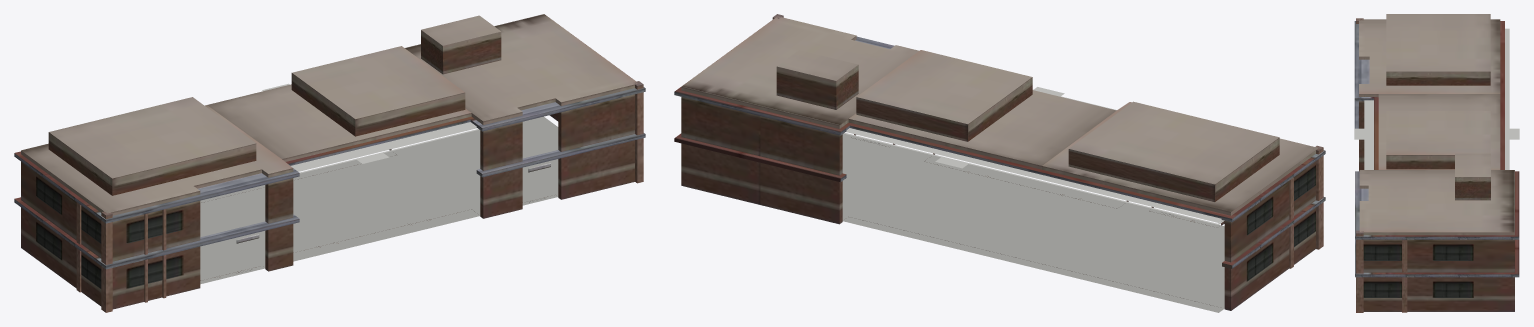
File: ind-warehouse-4.access-v9.lod1.glb
3 renders of one model, left to right at view 1: azimuth 30°, elevation 25°; view 2: azimuth 150°, elevation 25°; view 3: azimuth 270°, elevation 25°, orthographic. The views are drawn at different scales.
Parts seen in each view (by area): view 1: Industrial_Warehouse_4_Industrial_Facade_Flr_1_0, Walkable floors and stairs (×2); view 2: Industrial_Warehouse_4_Industrial_Facade_Flr_1_0, Walkable floors and stairs (×2); view 3: Industrial_Warehouse_4_Industrial_Facade_Flr_1_0, Walkable floors and stairs.
Boxes of the visible parts, x1=… form: Industrial_Warehouse_4_Industrial_Facade_Flr_1_0: x1=14, y1=14, x2=645, y2=312; Walkable floors and stairs (×2): x1=200, y1=83, x2=558, y2=284; Industrial_Warehouse_4_Industrial_Facade_Flr_1_0: x1=674, y1=14, x2=1325, y2=310; Walkable floors and stairs (×2): x1=842, y1=87, x2=1224, y2=312; Industrial_Warehouse_4_Industrial_Facade_Flr_1_0: x1=1354, y1=14, x2=1519, y2=312; Walkable floors and stairs: x1=1354, y1=28, x2=1519, y2=169.
Size of the model in its own units: 42.08 by 9.38 by 13.6.
Materials: 3 (1 with a texture image).
